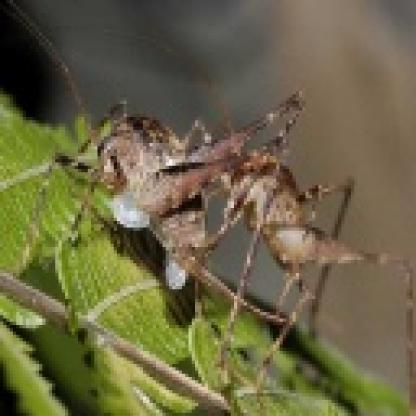grasshopper: (38, 89, 401, 335)
